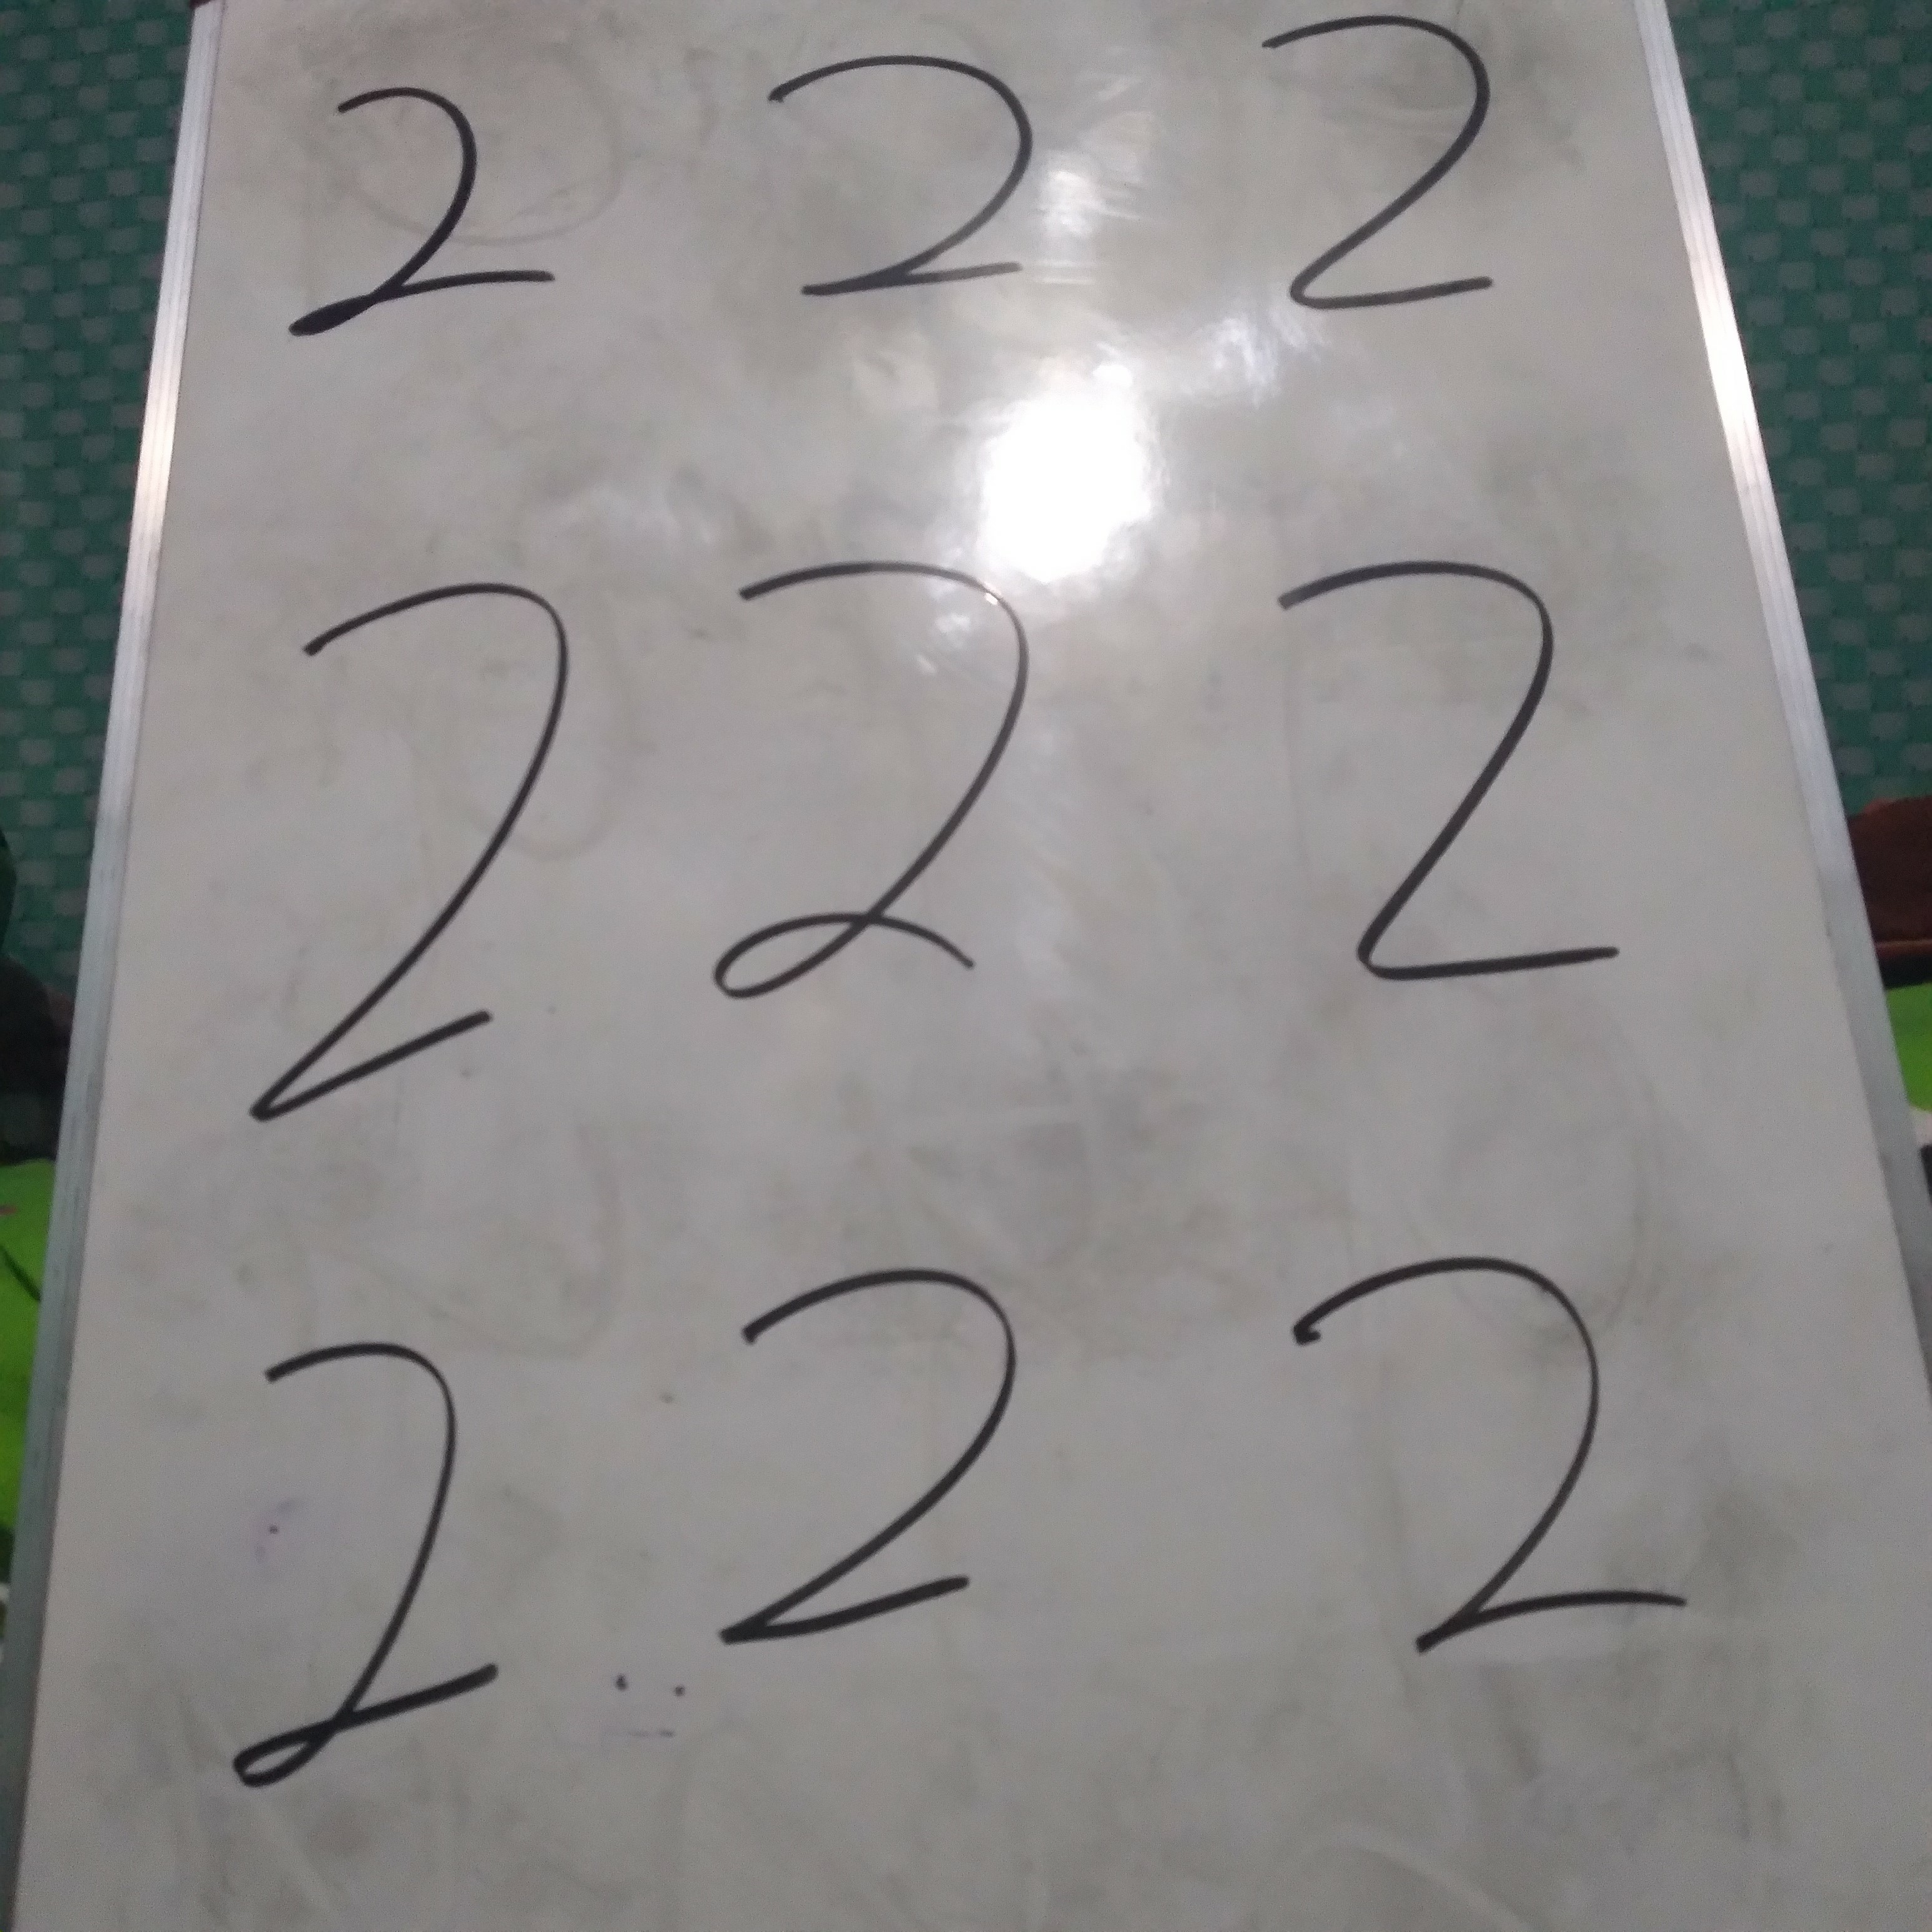num2: (663, 497, 1052, 1045), (1256, 497, 1645, 1045), (198, 572, 587, 1121), (171, 1313, 543, 1845), (678, 1250, 1089, 1665), (1279, 1253, 1690, 1669), (273, 57, 609, 368), (736, 29, 1072, 340), (1221, 10, 1557, 321)
